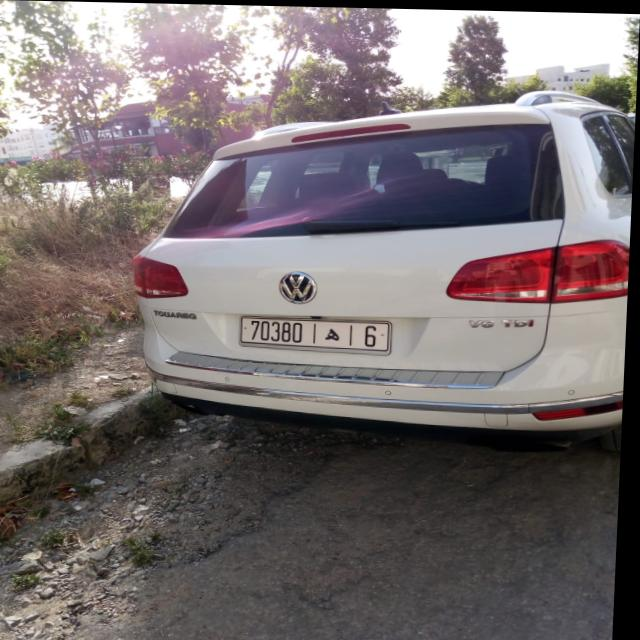License-Plate: (243, 316, 394, 351)
